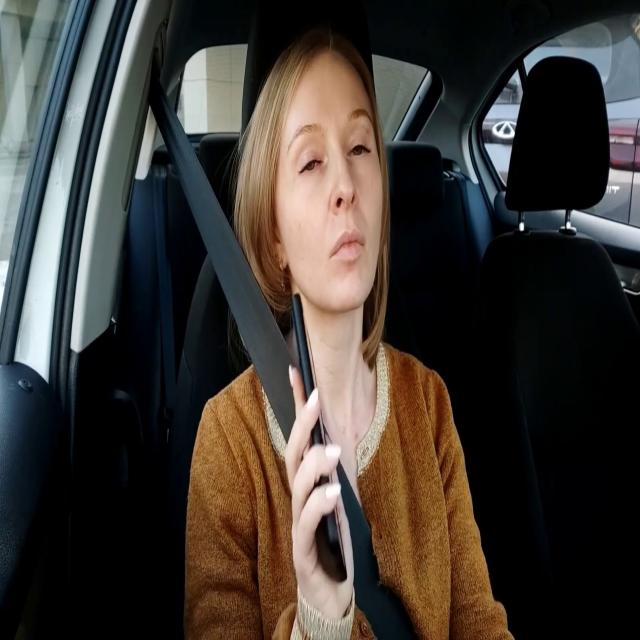phone: (290, 288, 348, 584)
